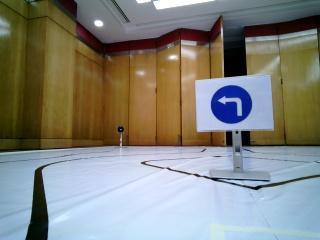left: (195, 78, 272, 127)
